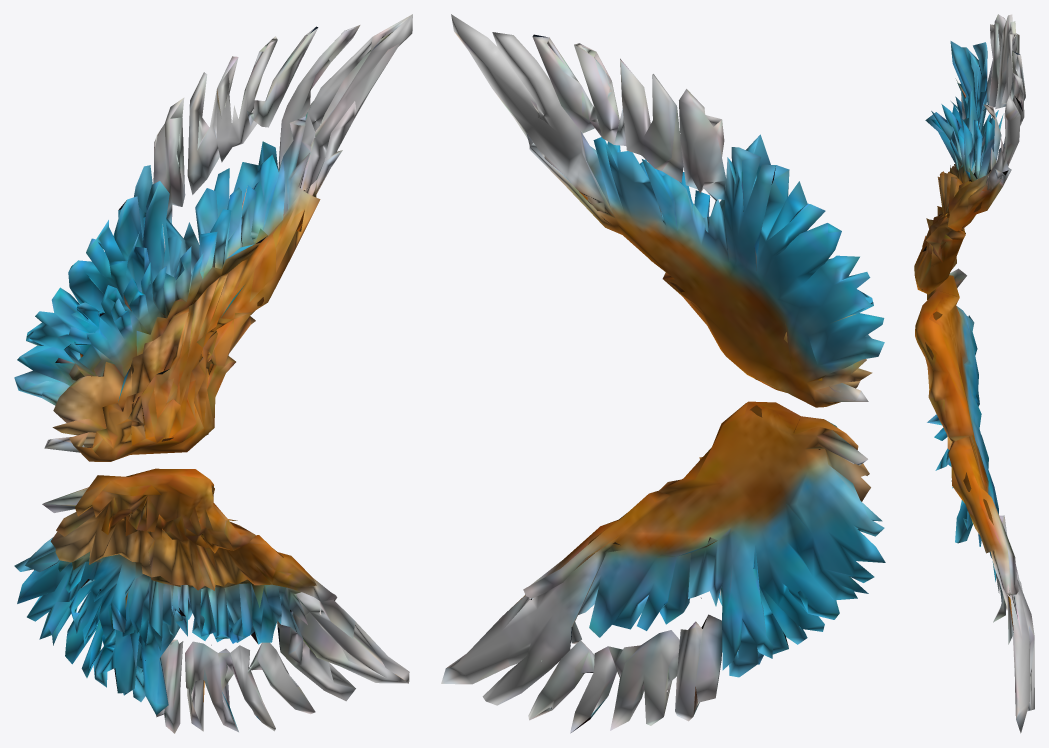
The model's file is back_prp_ailes_aube.glb.
3 views of the same model, side by side, from view 1: azimuth 30°, elevation 25°; view 2: azimuth 150°, elevation 25°; view 3: azimuth 270°, elevation 25° (orthographic). The views are drawn at different scales.
Parts seen in each view (by area): view 1: AileD, AileG; view 2: AileG, AileD; view 3: AileG, AileD.
Part boxes in pixels (bbox=[...]): AileD: bbox=[14, 14, 412, 461]; AileG: bbox=[14, 468, 409, 733]; AileG: bbox=[441, 401, 885, 733]; AileD: bbox=[451, 14, 884, 407]; AileG: bbox=[915, 268, 1034, 733]; AileD: bbox=[914, 14, 1025, 294].
Size of the model in its own units: 1.45 by 2.28 by 0.3822.
1 material, 1 textured.
